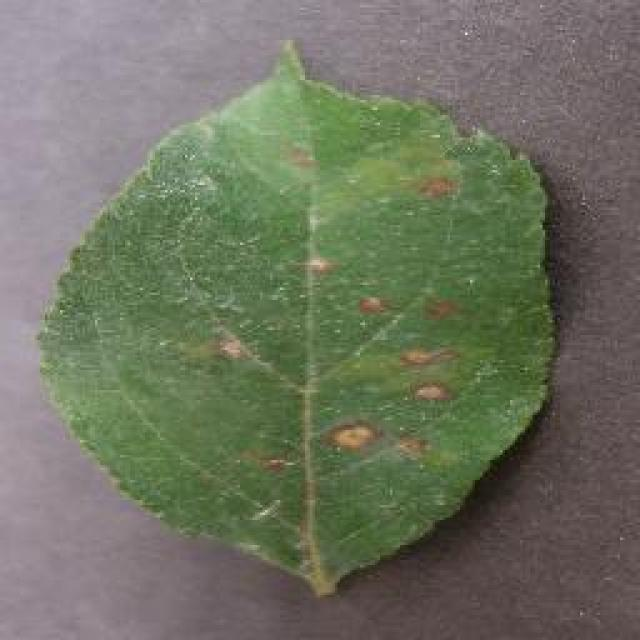apple rust disease: (35, 38, 560, 598)
